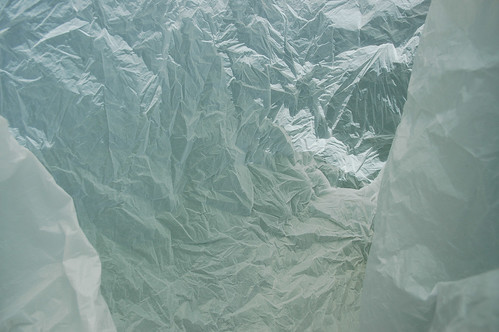kantong: (1, 1, 499, 332)
